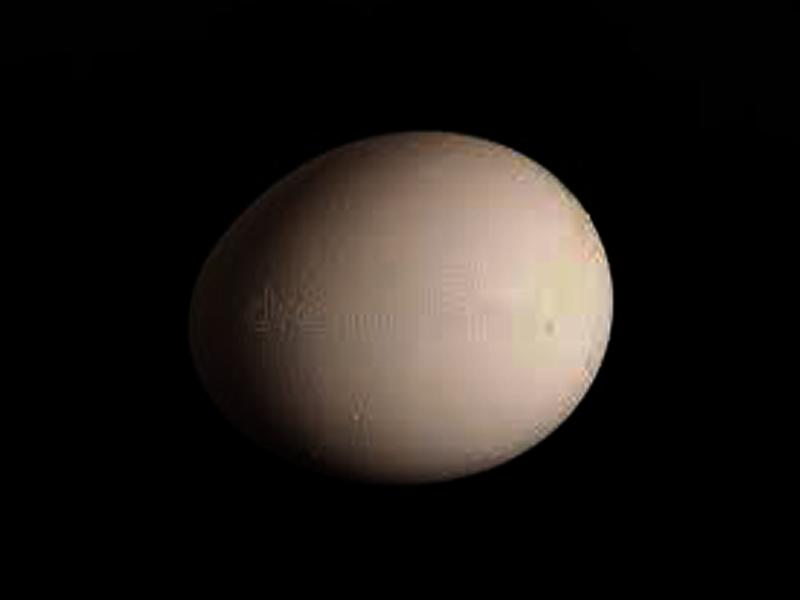Eggs: (189, 131, 617, 482)
